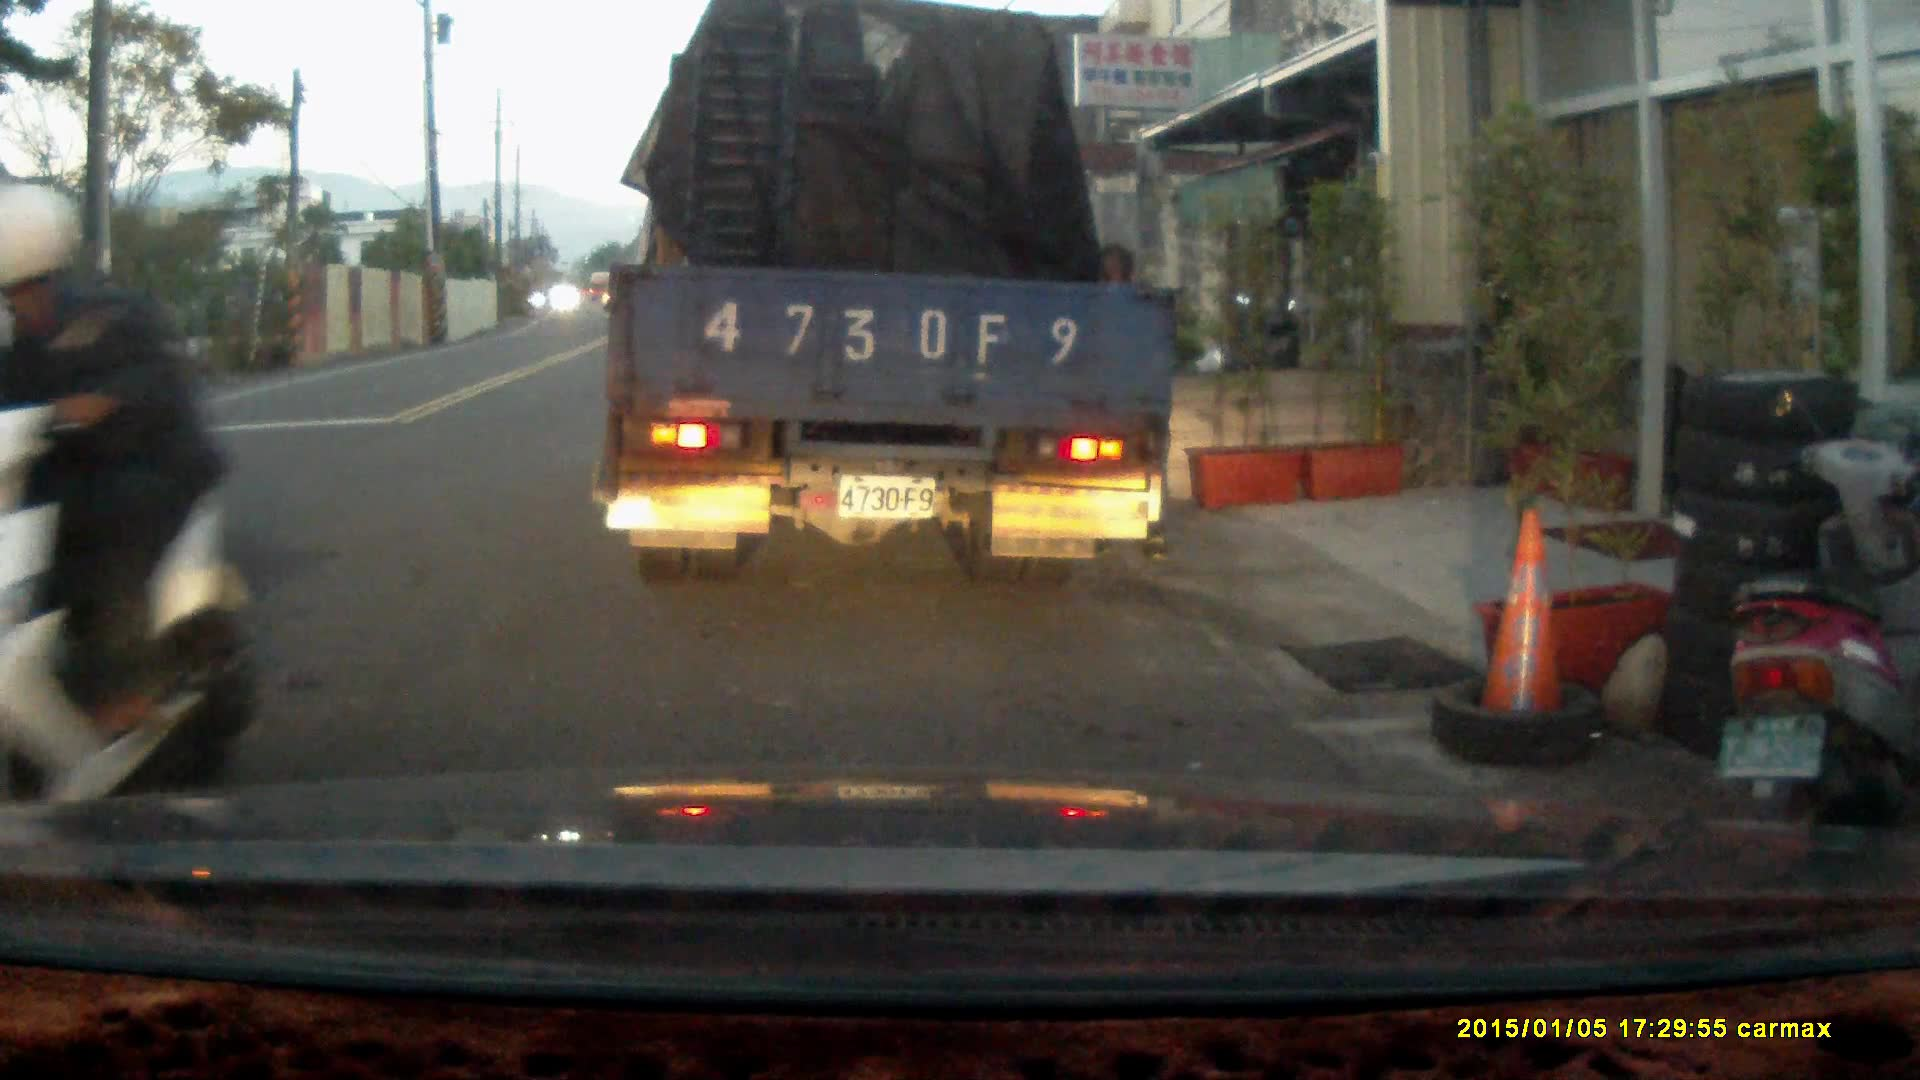pedestrian: (1082, 242, 1183, 567)
rider: (0, 178, 252, 837)
vehicle: (598, 23, 1185, 572)
